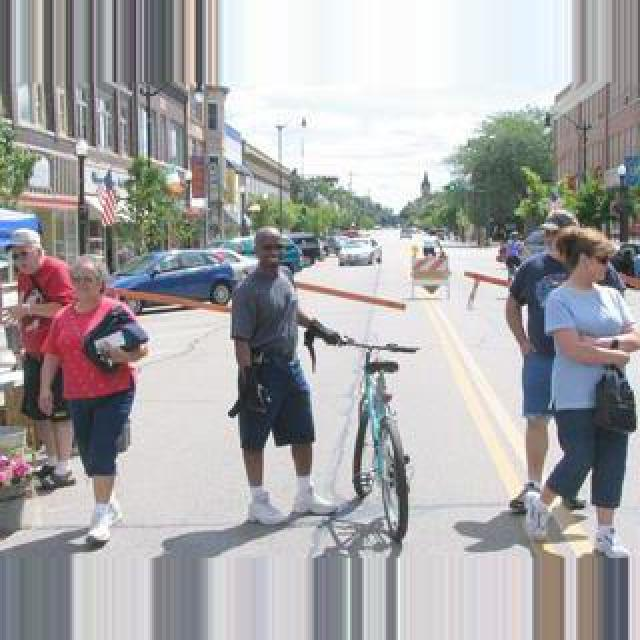Bus-Bike: (106, 250, 246, 308)
MC-Bike: (226, 230, 344, 524), (40, 254, 154, 550), (544, 226, 638, 550), (6, 232, 76, 488)
Person: (322, 332, 418, 552)
